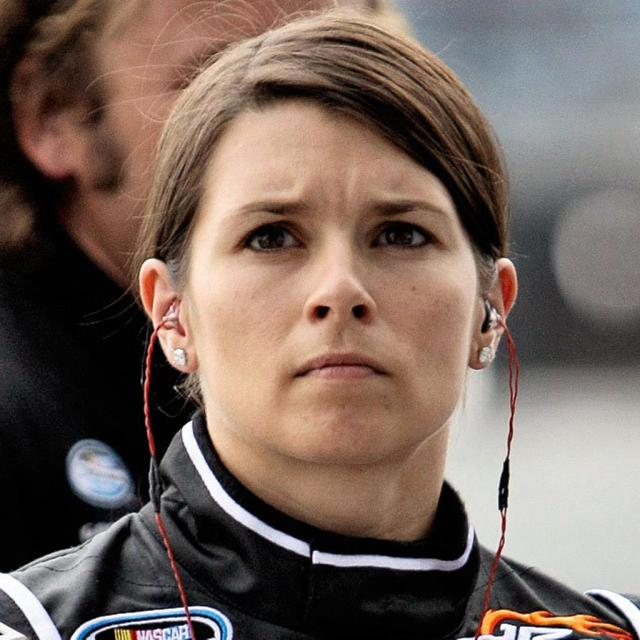Face: (201, 110, 503, 473)
